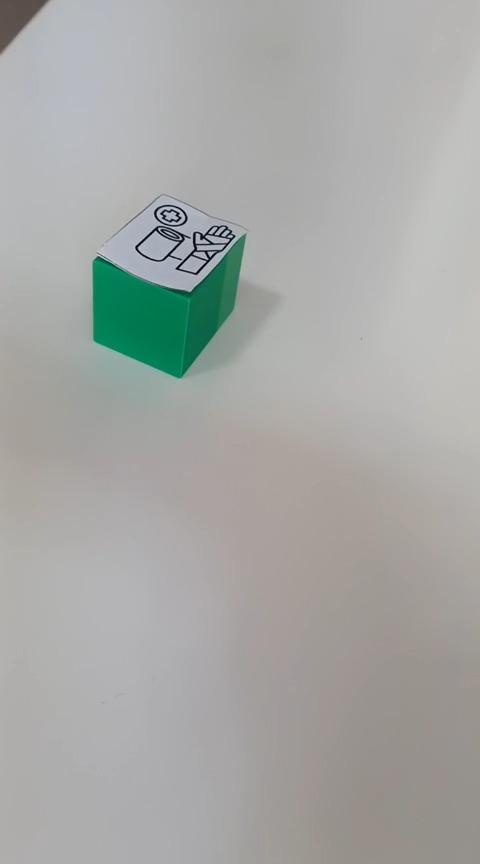Bandages: (91, 191, 248, 378)
